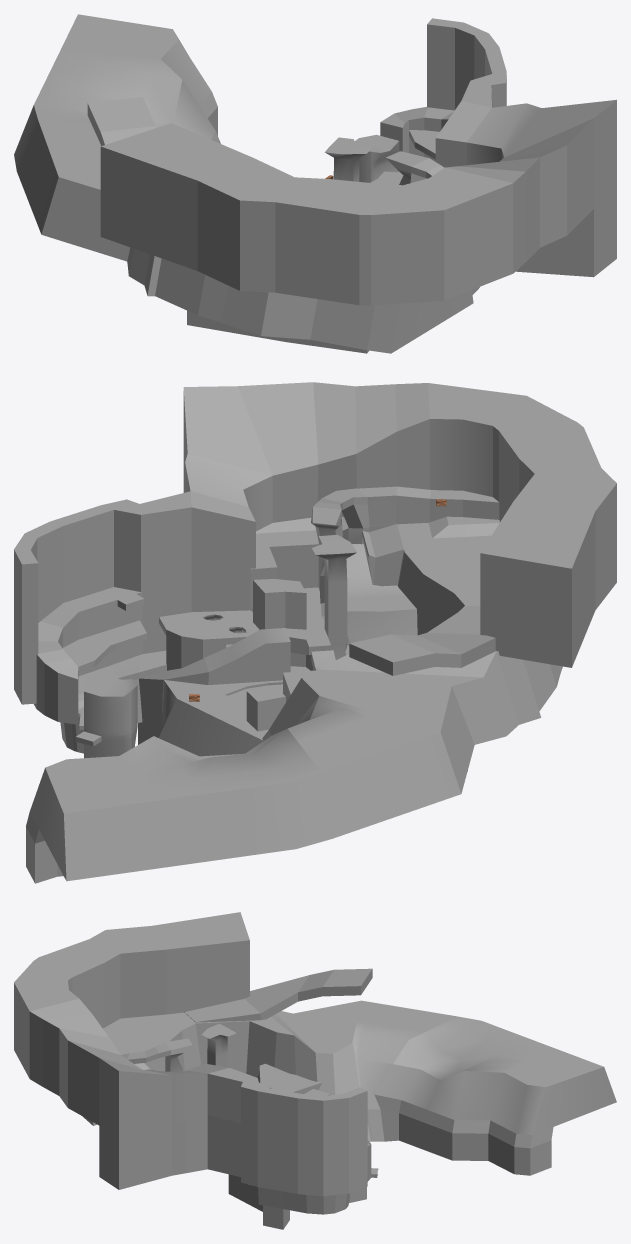
The model's file is env_level_volcanoP2_V1.fbx.
3 renders of one model, top to bottom at view 1: azimuth 30°, elevation 25°; view 2: azimuth 150°, elevation 25°; view 3: azimuth 270°, elevation 25°, orthographic. The views are drawn at different scales.
Parts seen in each view (by area): view 1: pCube34, pCube33, pCube28, pCube50, pCube55, pCube47, pCube43, pCube52, polySurface2; view 2: pCube34, pCube33, pCube43, pCube50, pCube52, pCube45, pCube49, pCube28, pCube55, polySurface1, pCube46, pCube47 (+6 smaller); view 3: pCube34, pCube33, pCube28, pCube54, pCube49, pCube43, pCube48, pCube47.
Part boxes in pixels (x1,y1,x2,y2): pCube34: [100, 18, 616, 305]; pCube33: [14, 14, 473, 353]; pCube28: [87, 97, 156, 145]; pCube50: [380, 107, 454, 161]; pCube55: [354, 134, 399, 182]; pCube47: [324, 137, 372, 181]; pCube43: [385, 151, 479, 294]; pCube52: [187, 310, 368, 353]; polySurface2: [409, 130, 439, 159]; pCube34: [14, 382, 616, 704]; pCube33: [26, 523, 562, 883]; pCube43: [250, 486, 499, 610]; pCube50: [34, 587, 144, 724]; pCube52: [158, 666, 467, 771]; pCube45: [252, 544, 417, 670]; pCube49: [138, 628, 290, 744]; pCube28: [349, 606, 495, 675]; pCube55: [75, 677, 137, 758]; polySurface1: [159, 610, 259, 670]; pCube46: [253, 579, 306, 666]; pCube47: [311, 534, 356, 643]; pCube34: [14, 912, 367, 1196]; pCube33: [82, 1000, 616, 1175]; pCube28: [184, 968, 372, 1022]; pCube54: [258, 1187, 349, 1214]; pCube49: [228, 1174, 289, 1229]; pCube43: [121, 1038, 192, 1072]; pCube48: [257, 1063, 322, 1093]; pCube47: [201, 1023, 236, 1067].
Bounding box in the file's own units: 19433 × 10276 × 30564.
